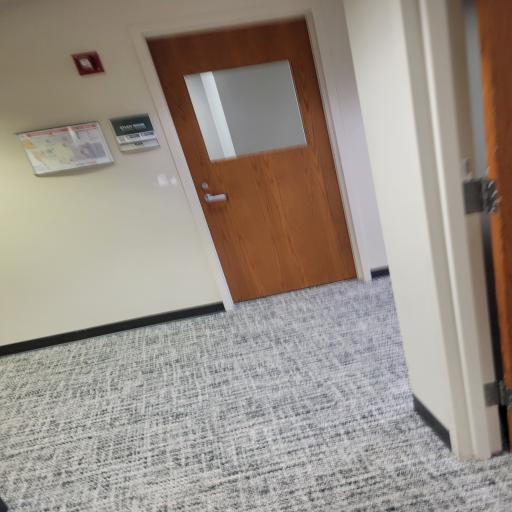door: (137, 22, 360, 292)
fire alarm signal: (64, 45, 108, 77)
floor layout map: (9, 125, 115, 170)
